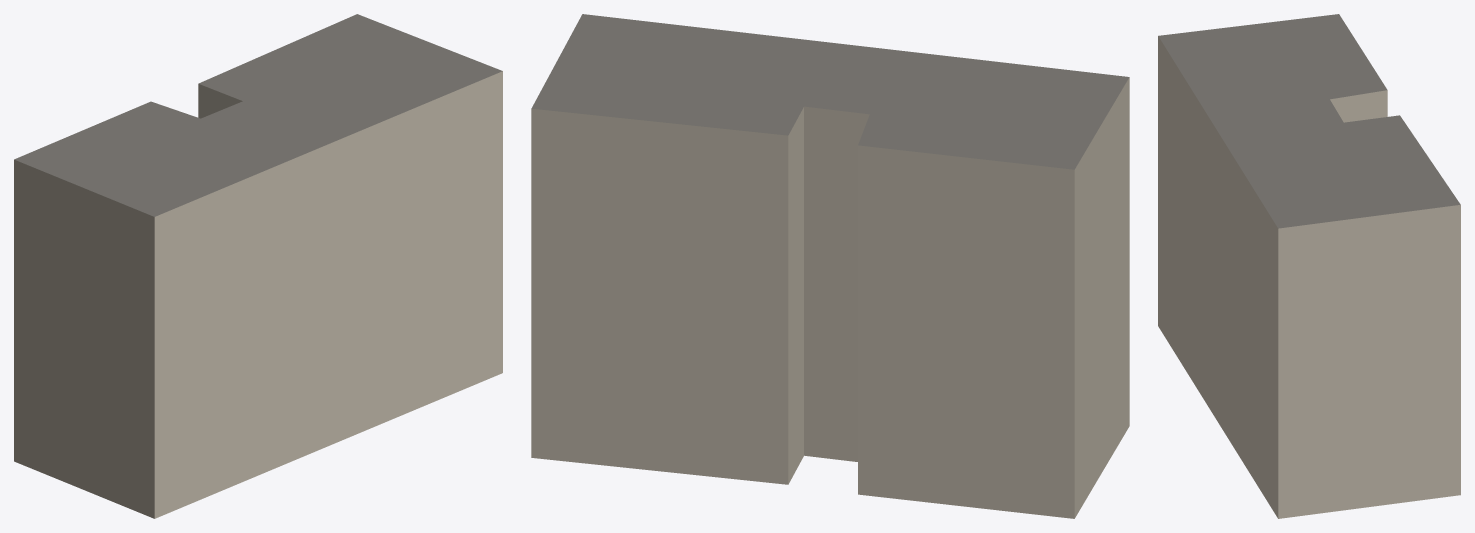
The picture shows the model from 3 angles, left to right: view 1: azimuth 30°, elevation 25°; view 2: azimuth 150°, elevation 25°; view 3: azimuth 270°, elevation 25°; orthographic projection. The views are drawn at different scales.
Visible parts, largest first — view 1: HP-w505643620; view 2: HP-w505643620; view 3: HP-w505643620.
Boxes of the visible parts, x1,y1,x2,y2 form: HP-w505643620: [14, 14, 502, 518]; HP-w505643620: [531, 14, 1129, 518]; HP-w505643620: [1158, 14, 1460, 518].
Bounding box in the file's own units: 23.77 × 15 × 14.17.
